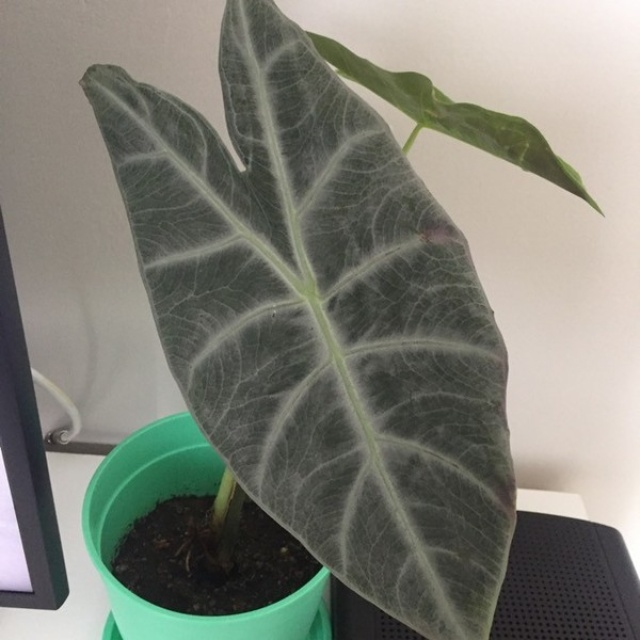obstacle: (62, 39, 481, 634)
